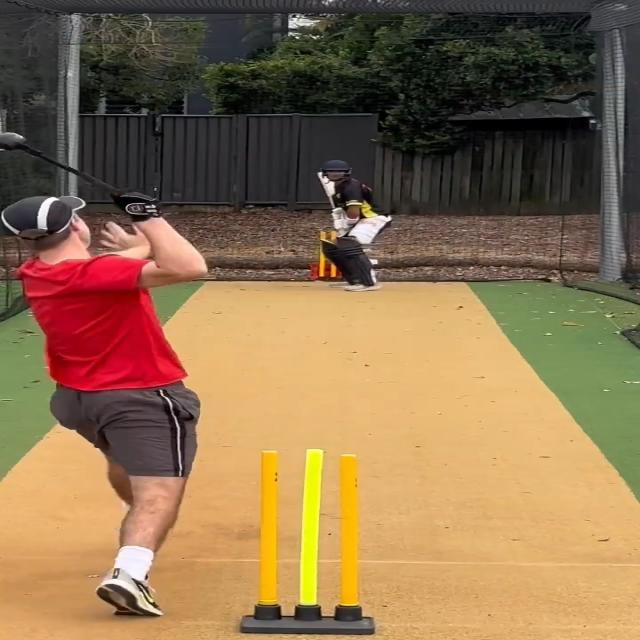stump: (234, 446, 383, 635)
